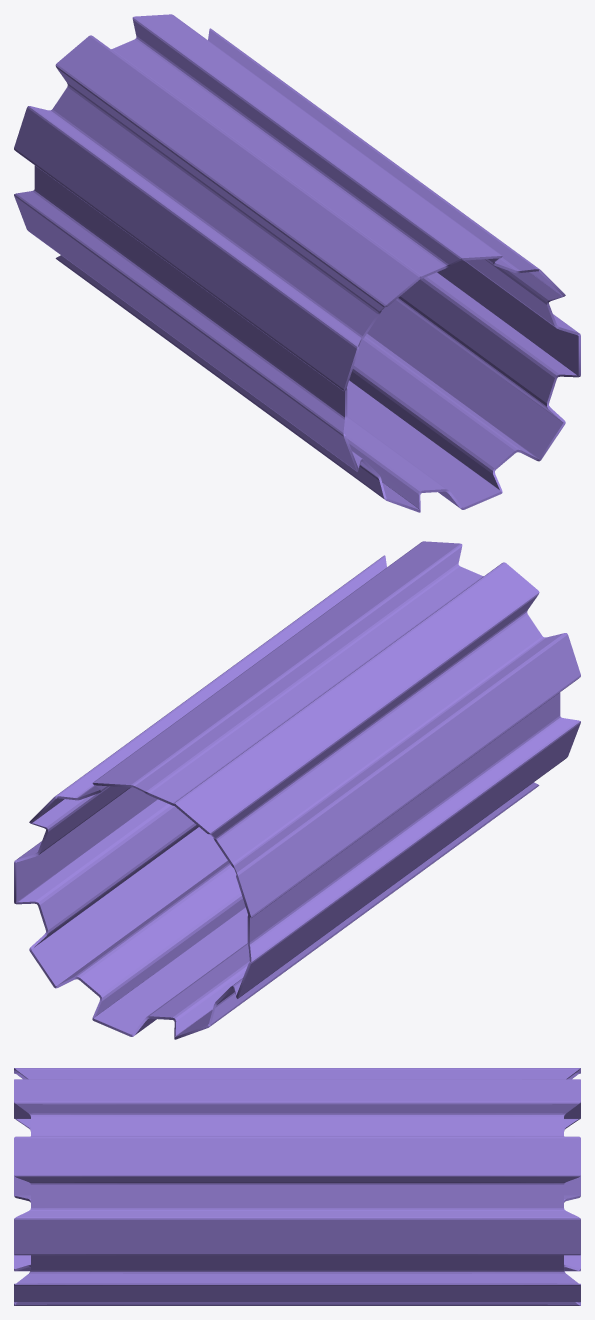
File: tuboEntrada.FBX
The picture shows the model from 3 angles, top to bottom: view 1: azimuth 30°, elevation 25°; view 2: azimuth 150°, elevation 25°; view 3: azimuth 270°, elevation 25°; orthographic projection. The views are drawn at different scales.
Parts seen in each view (by area): view 1: Tube005; view 2: Tube005; view 3: Tube005.
Part boxes in pixels (left/top/right/bottom): Tube005: left=14, top=14, right=580, bottom=512; Tube005: left=14, top=541, right=580, bottom=1039; Tube005: left=14, top=1068, right=580, bottom=1305.
Bounding box in the file's own units: 884 × 2130 × 897.
